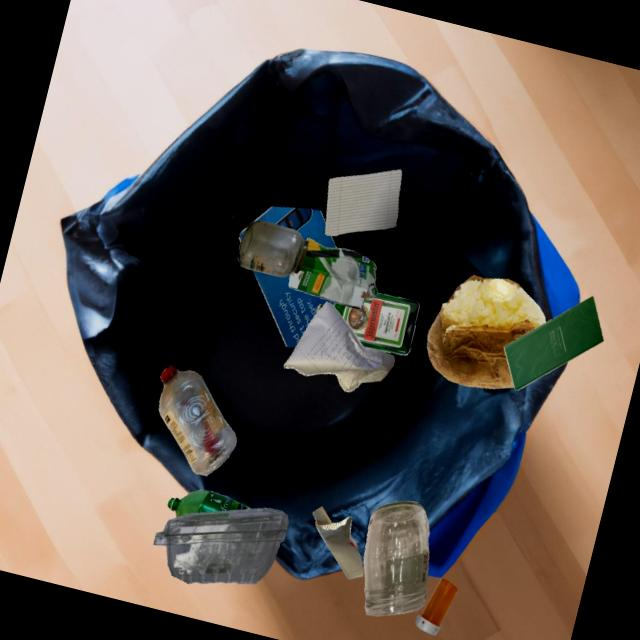biowaste: (426, 275, 545, 388)
cardboard: (288, 238, 377, 309), (312, 506, 363, 579)
glass: (363, 501, 429, 616), (332, 293, 419, 355), (237, 220, 308, 277)
paper: (283, 301, 394, 392), (503, 296, 603, 390), (252, 270, 320, 347), (324, 169, 401, 235), (242, 233, 319, 297), (253, 206, 336, 248)
plastic: (153, 508, 288, 583), (158, 365, 236, 475), (415, 578, 458, 635), (167, 489, 251, 517)
